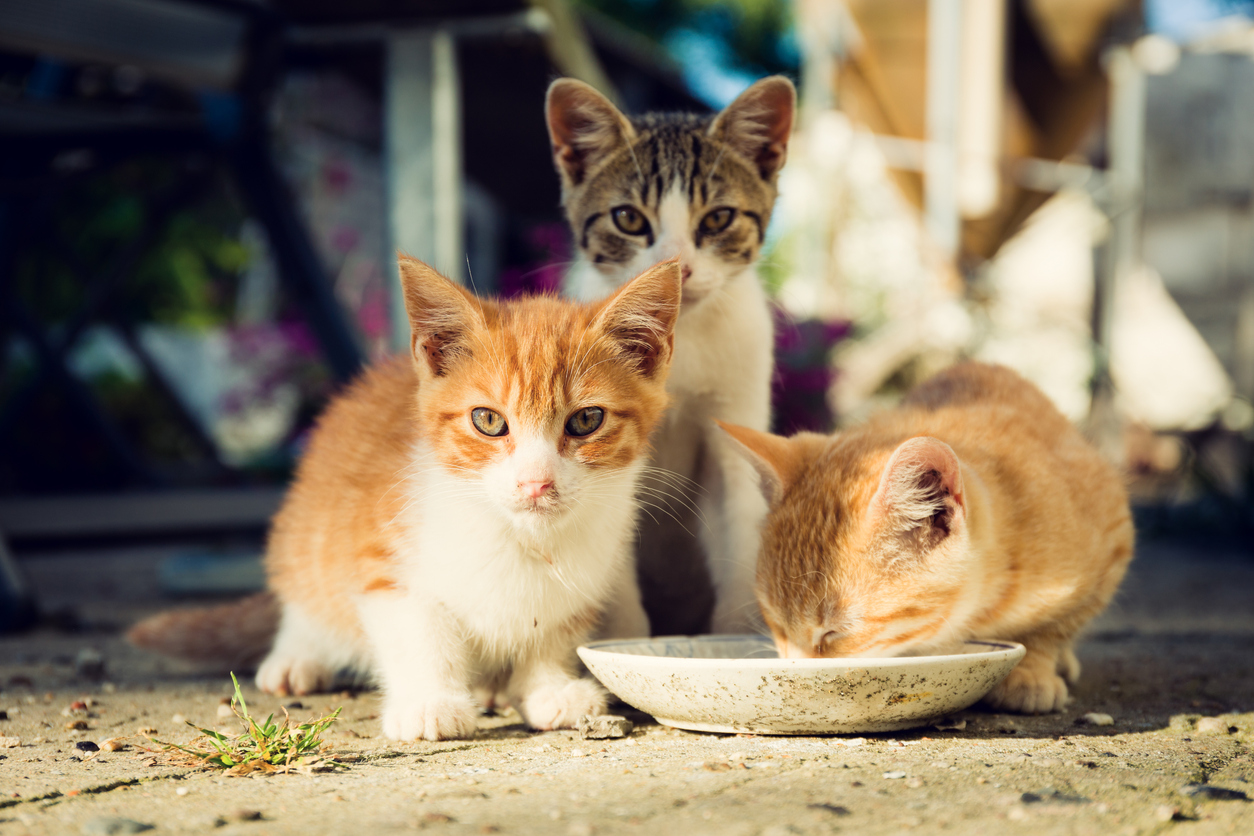Cat: (276, 252, 703, 766)
